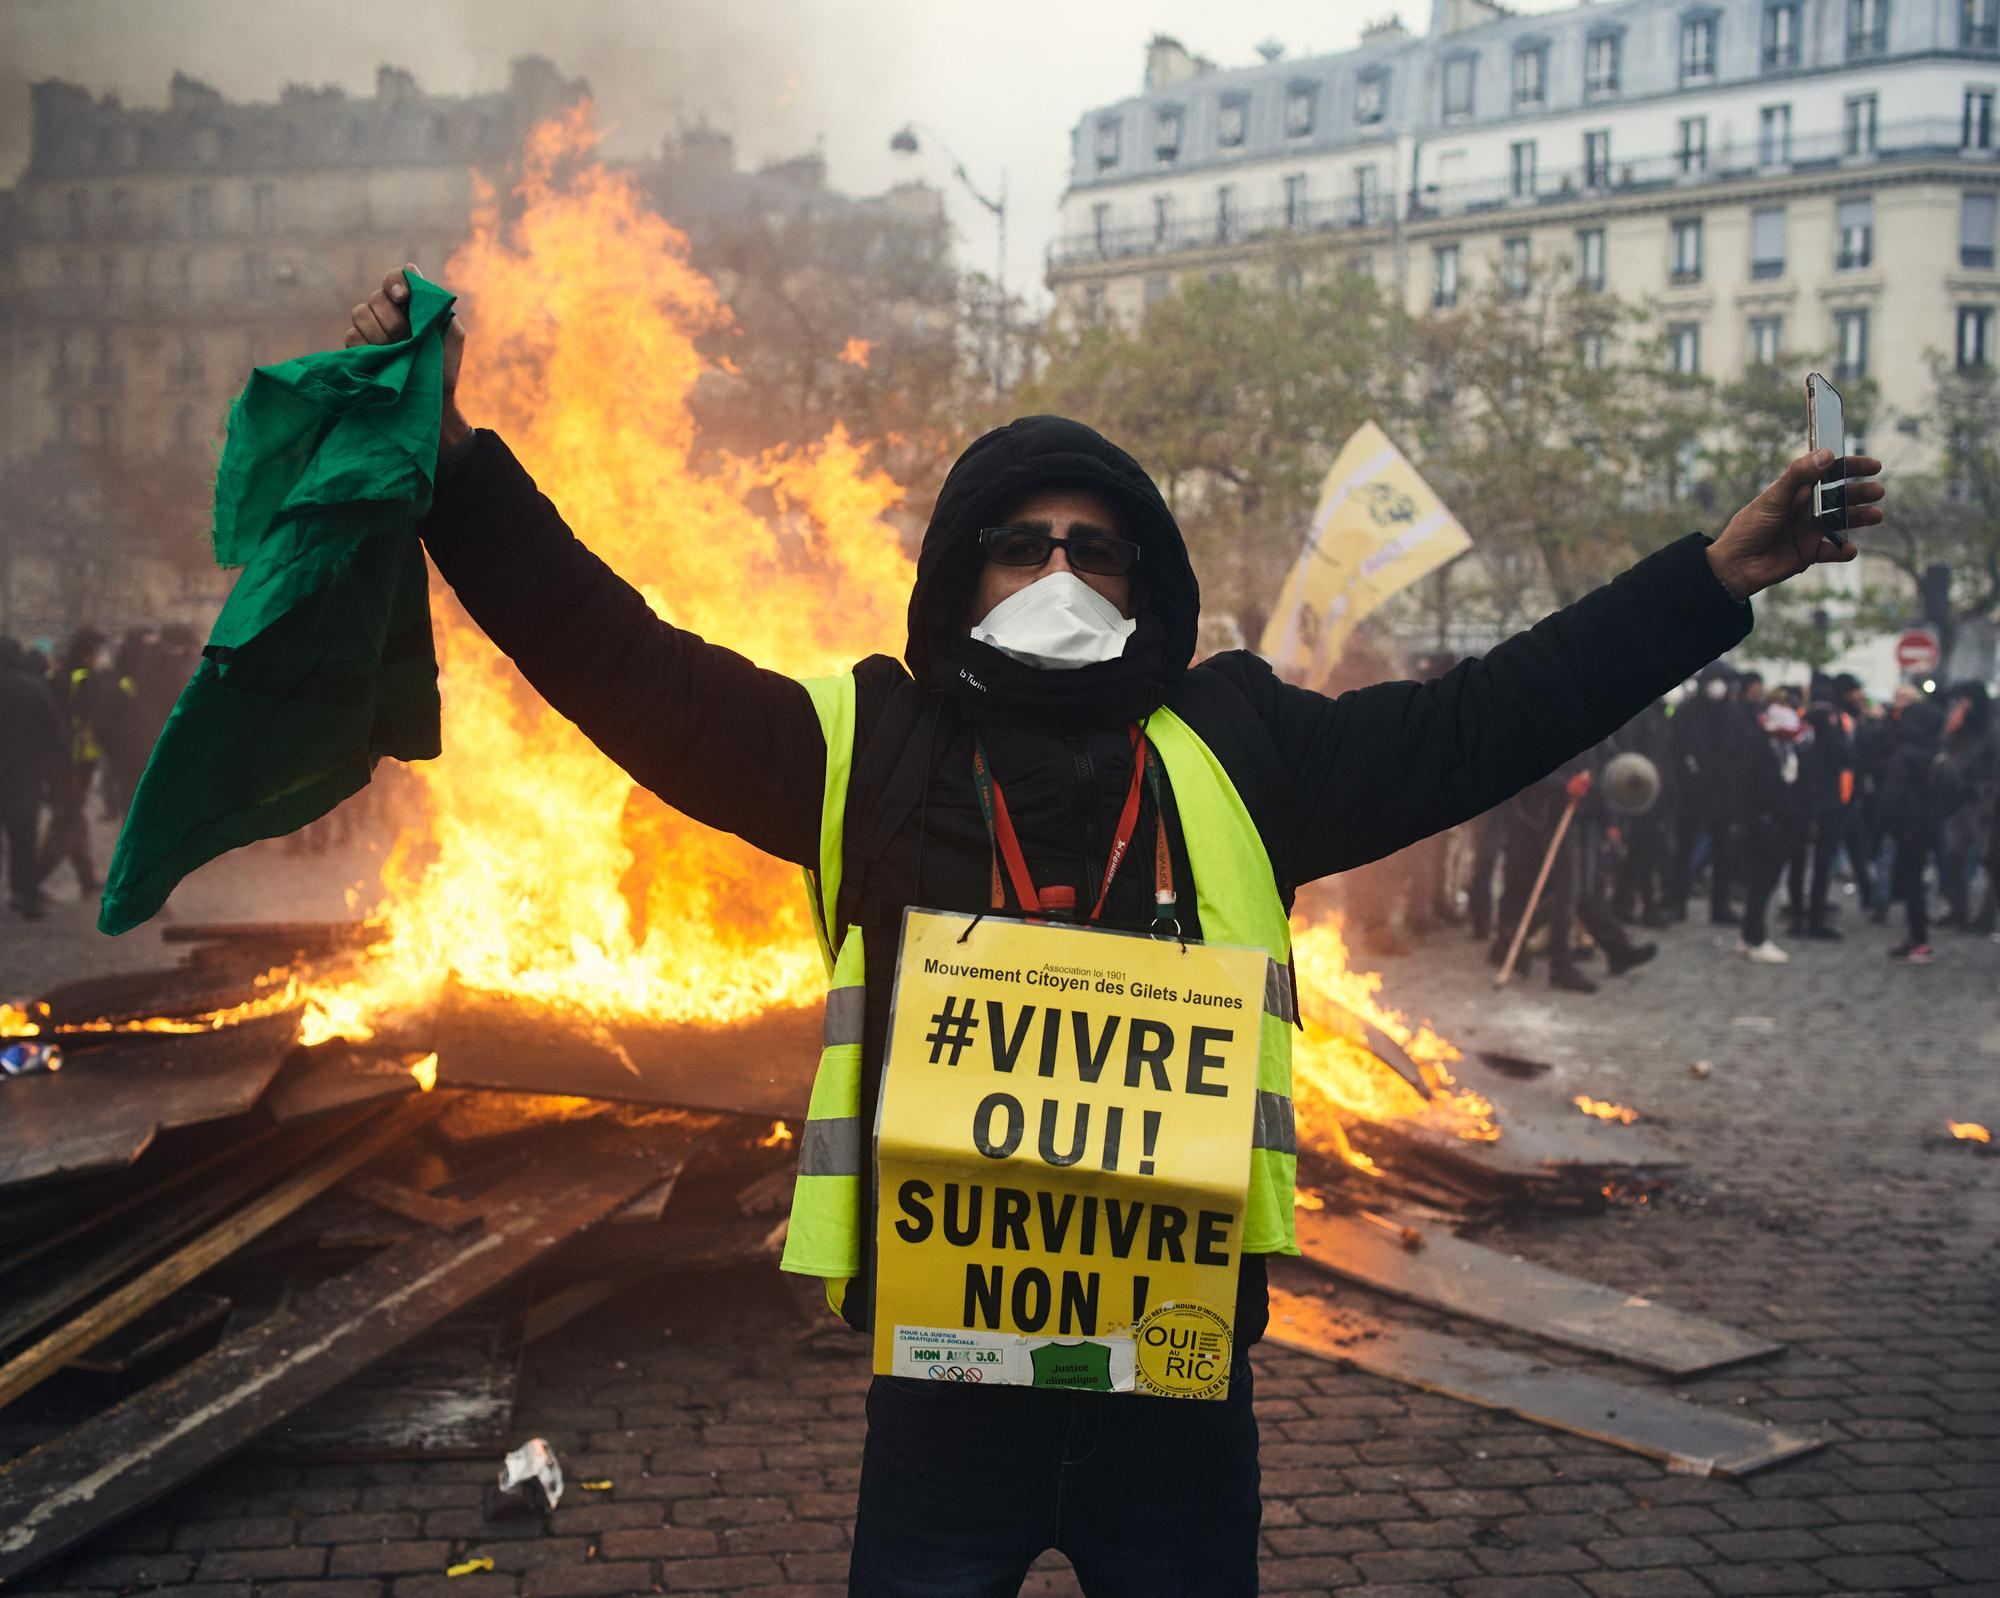with_mask: (977, 508, 1145, 682)
